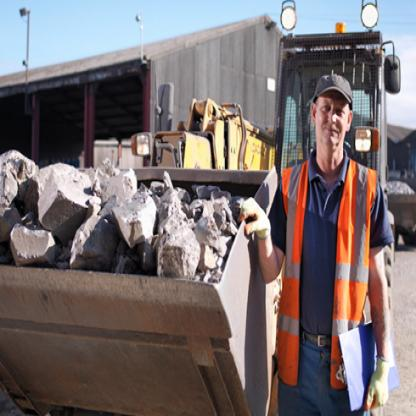person: (226, 60, 412, 415)
